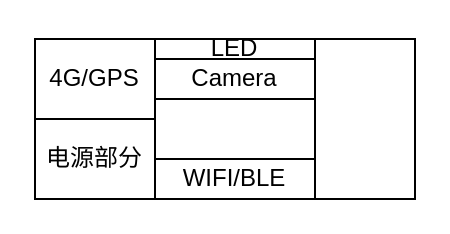
The diagram is 450 pixels wide and 234 high, and some of its shapes have lost their labels. Here are the shapes that lost their labels. From the top down, the centre of each, then its label:
the point at 234,128: CORE
the point at 364,118: audio
